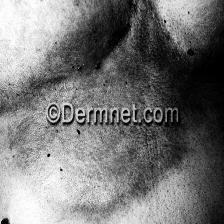Unclassified: (128, 1, 167, 56), (2, 82, 24, 120)
